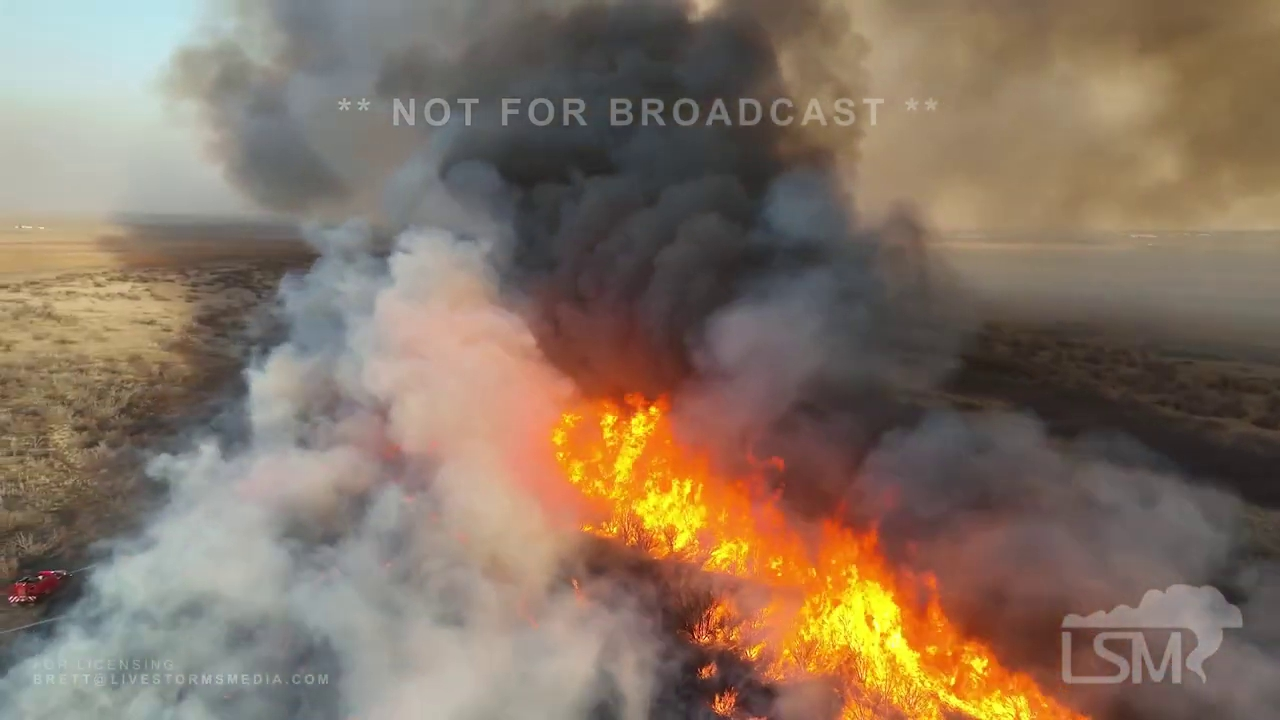forest_fire: (552, 396, 1084, 718), (711, 692, 733, 715)
